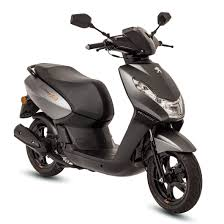motorcycle: (13, 10, 203, 216)
